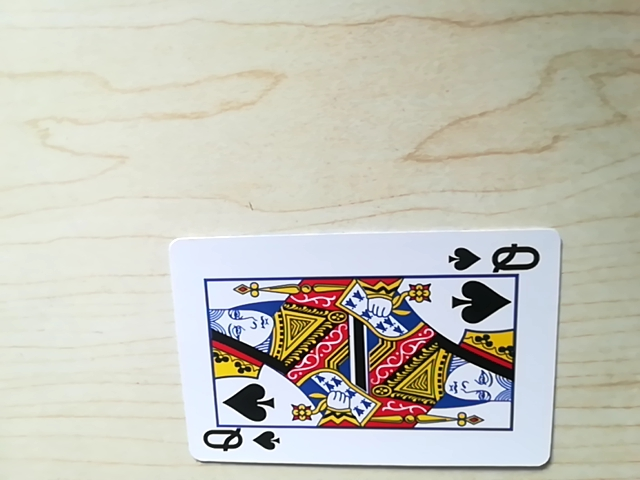ht q: (448, 237, 545, 276), (197, 422, 278, 461)
